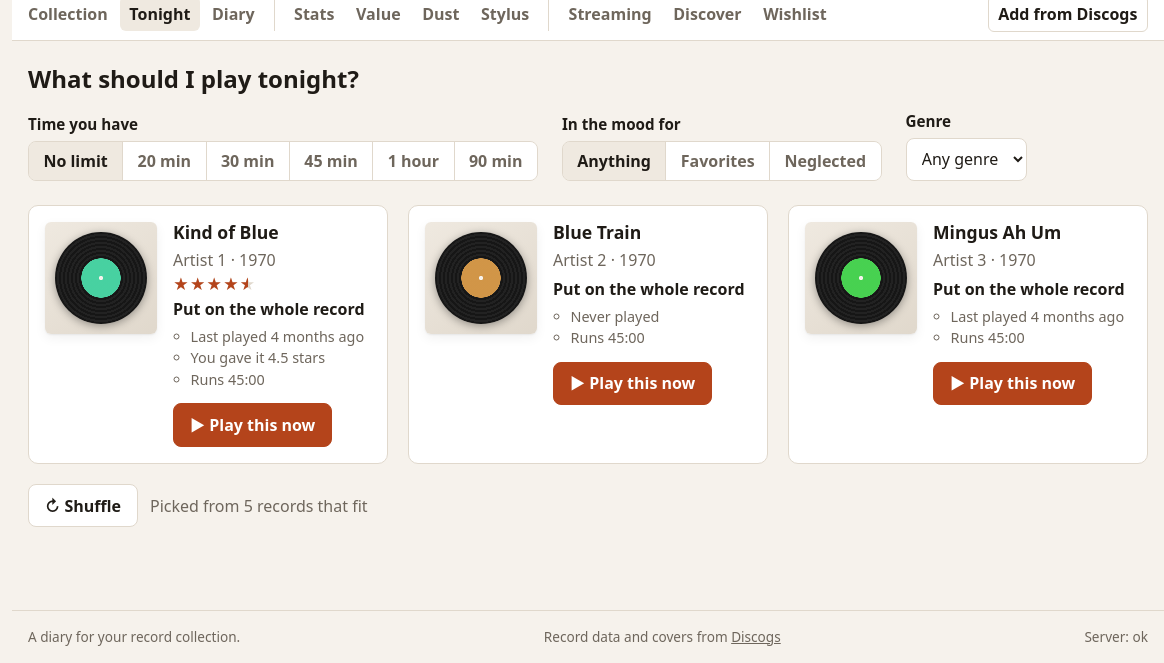
Test: TonightPage › asks again when the time, mood or genre changes, and keeps them in the address
The image size is (1164, 663).
Check: the list named "Suggestions" is shown, box x1=28 y1=205 x2=1148 y2=464
Click the button "45 min" at (332, 161), box x1=290 y1=142 x2=373 y2=180
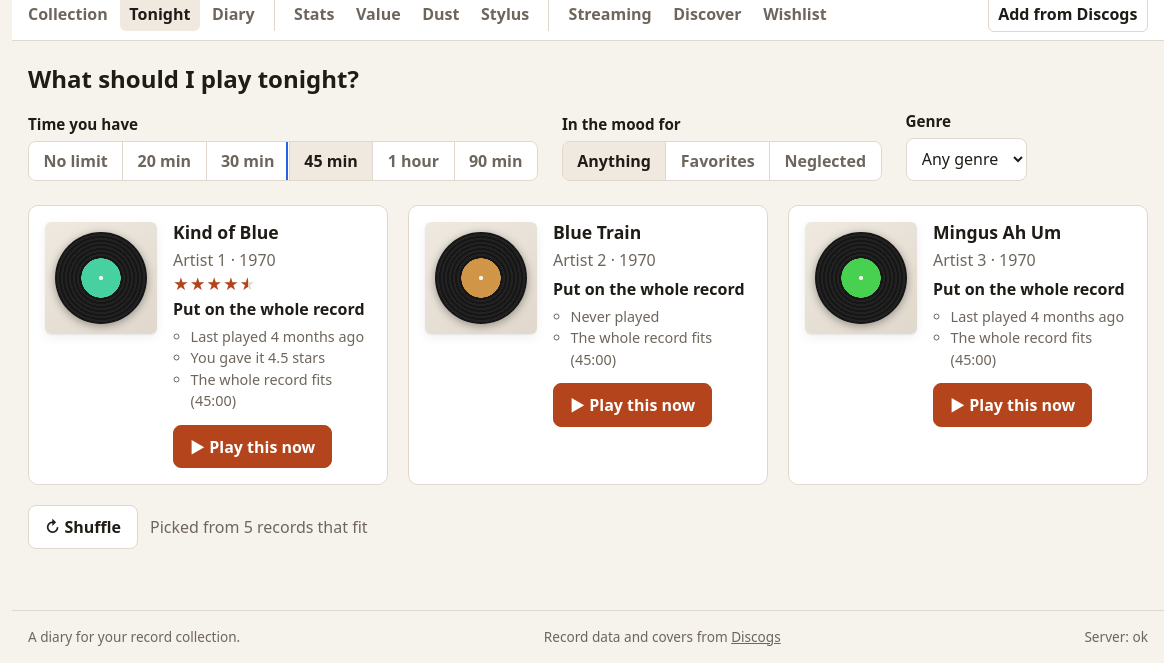
Click the button "Neglected" at (825, 161), box x1=770 y1=142 x2=880 y2=180
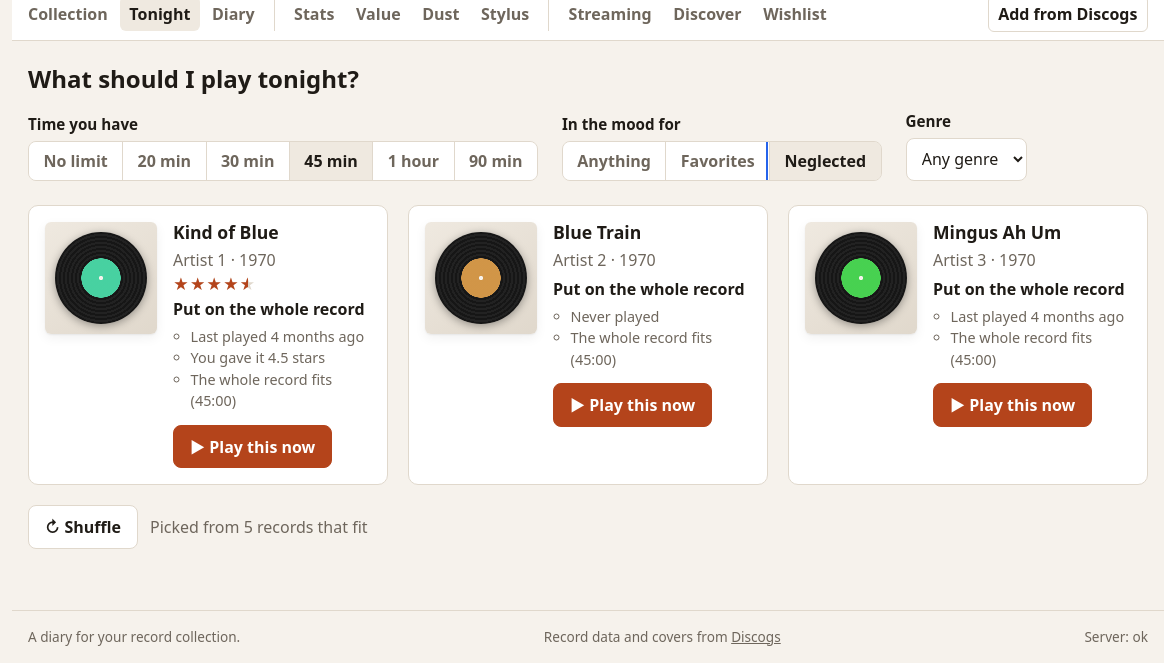
Select "Rock" in the dropdown labelled "Genre" at (966, 159), box x1=906 y1=138 x2=1027 y2=181
(page scrolled)
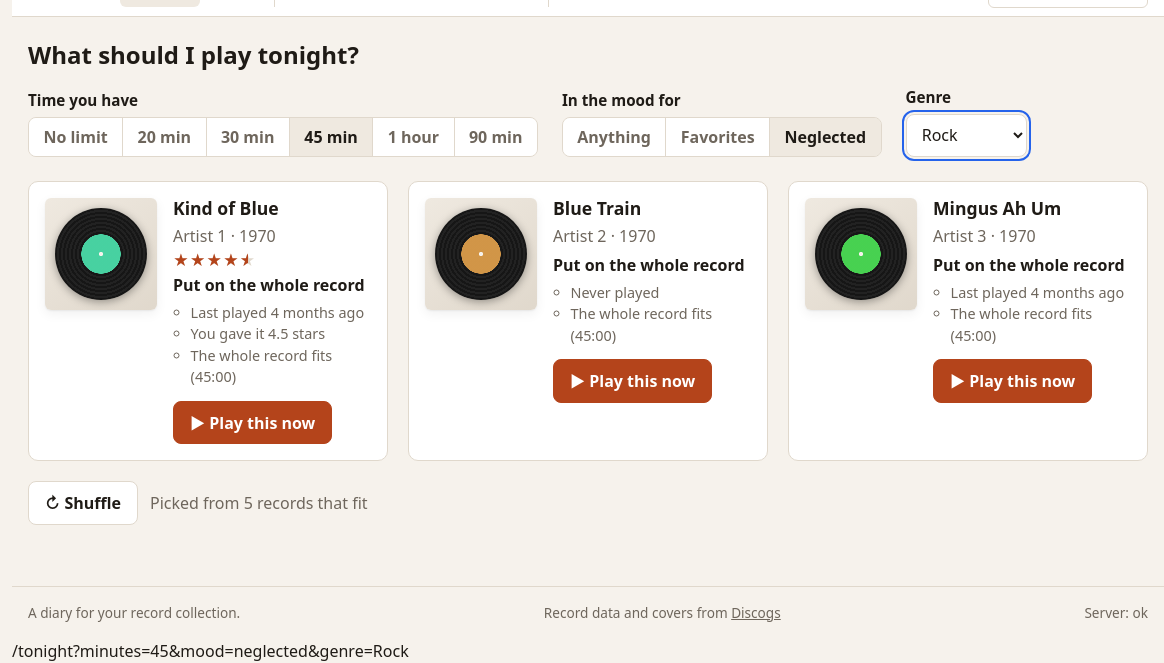
Check: the text with test id "location" reads "/tonight?minutes=45&mood=neglected&genre=Rock", box x1=12 y1=640 x2=409 y2=662
